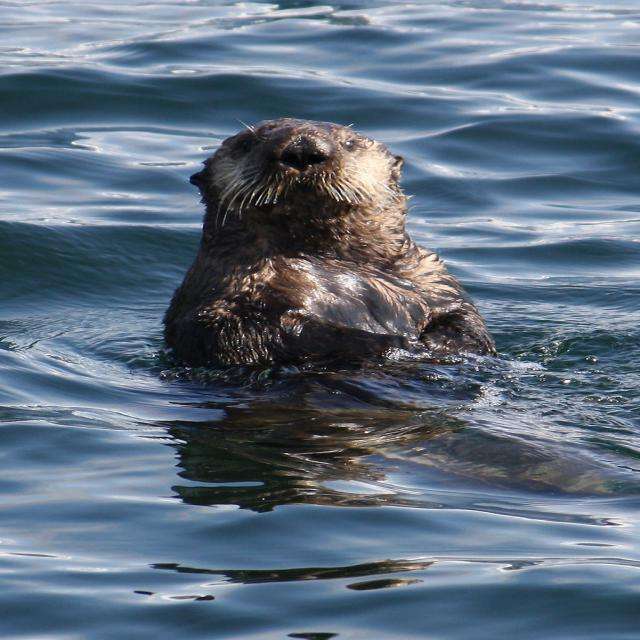otter: (171, 118, 497, 380)
